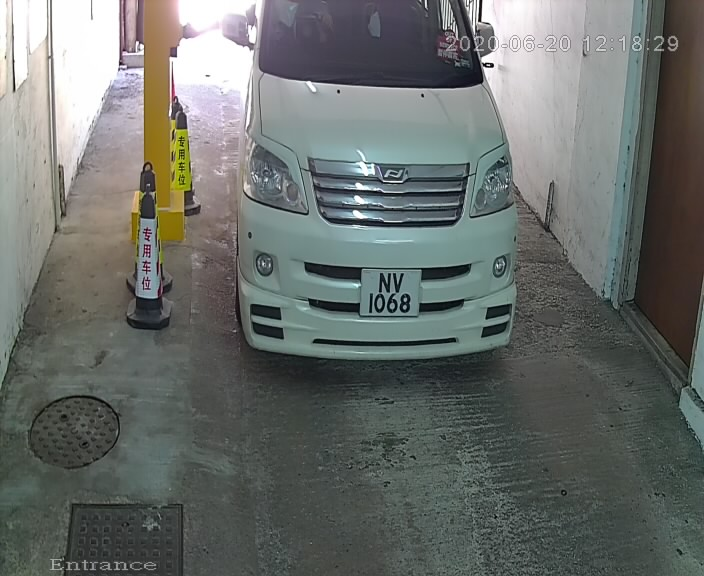privatecar: (214, 3, 543, 379)
